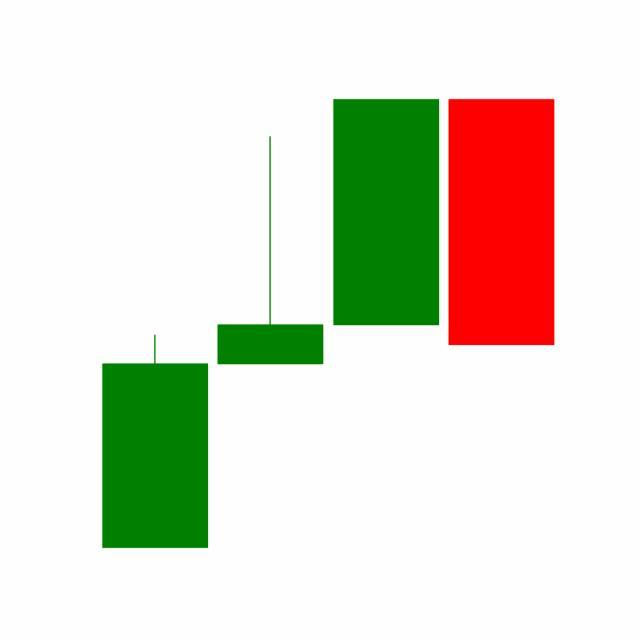Marubozu: (329, 97, 445, 328)
